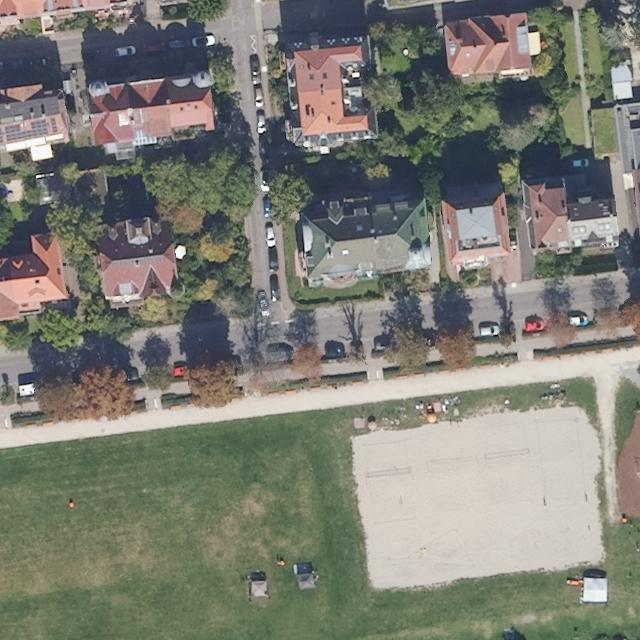PV: (4, 118, 50, 142), (50, 117, 58, 133)
